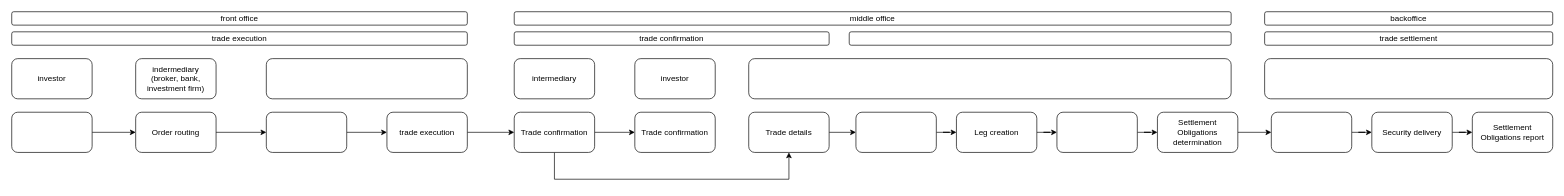
This 1564x196 diagram has some shape labels left out. Here are the shapes that lost their labels. From the top down, the box of each, then its label:
(849, 31, 1231, 45): trade clearing
(266, 58, 467, 99): trading venue (stock exchange, otc market, dark pool)
(748, 58, 1231, 99): clearinghouse
(1264, 58, 1553, 99): Custodian/broker
(11, 112, 92, 152): Order placement
(266, 112, 347, 152): Order matching
(855, 112, 936, 152): Risk checks
(1056, 112, 1137, 152): Netting transactions
(1271, 112, 1352, 152): Payment processing
